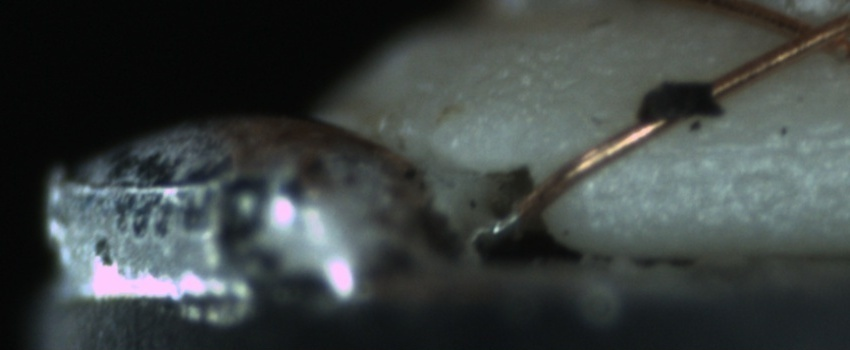CL: (768, 4, 847, 64)
DL: (630, 106, 849, 186)
